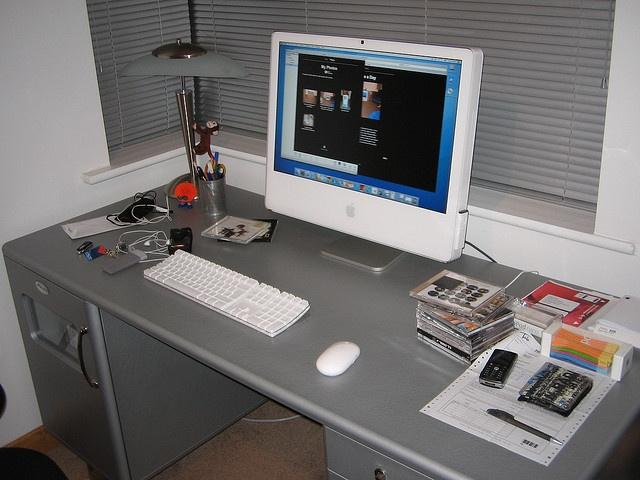AIO PC-Monitor-TV: (264, 29, 482, 271)
Meja: (1, 173, 639, 479)
